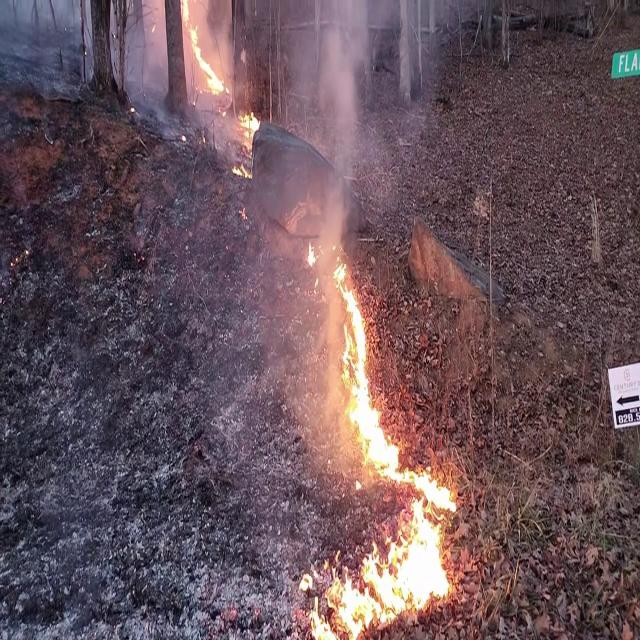Fire: (306, 251, 464, 631), (178, 1, 227, 100), (229, 102, 262, 180)
Smoke: (281, 0, 424, 230)
